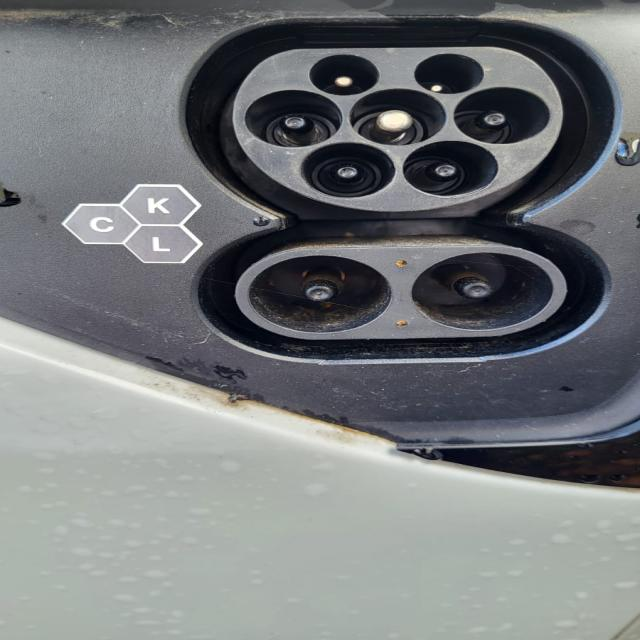inlet: (233, 47, 562, 212)
inlet-above-left: (308, 54, 380, 96)
inlet-above-right: (414, 53, 483, 94)
inlet-below-left: (301, 142, 396, 198)
inlet-below-right: (403, 141, 499, 197)
inlet-circle: (348, 89, 446, 146)
inlet-circle-left: (244, 89, 342, 147)
inlet-circle-right: (453, 87, 550, 144)
inlet-minus: (412, 251, 554, 331)
inlet-plus: (249, 254, 392, 333)
